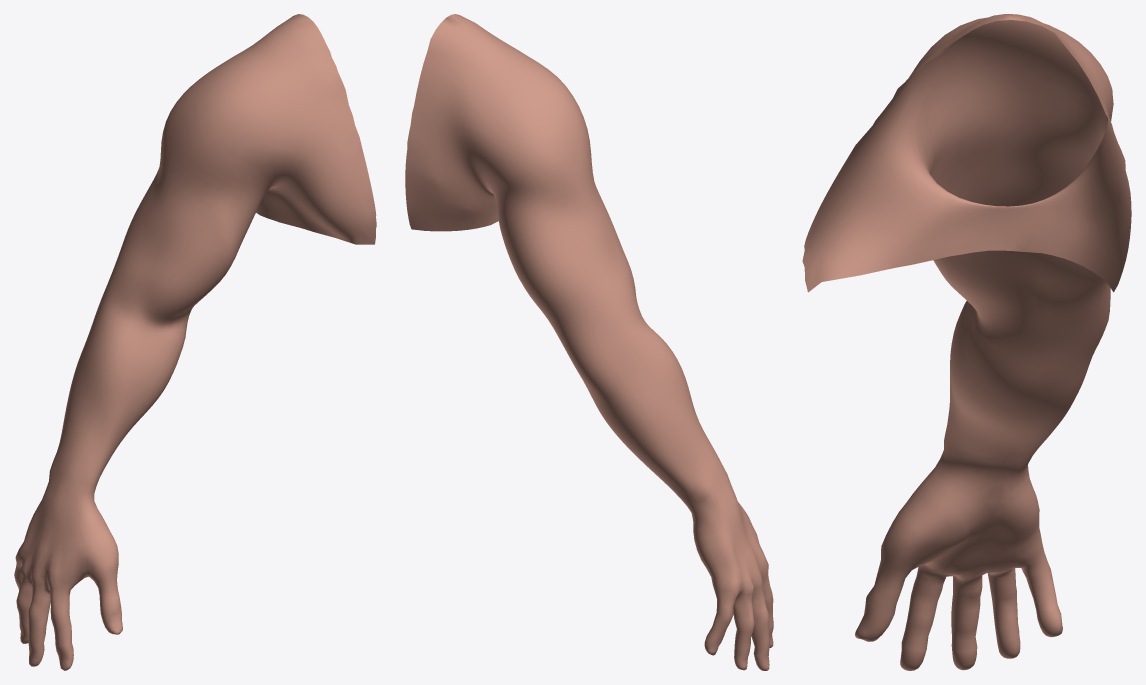
The model's file is Right_hand.fbx.
3 views of the same model, side by side, from view 1: azimuth 30°, elevation 25°; view 2: azimuth 150°, elevation 25°; view 3: azimuth 270°, elevation 25° (orthographic). The views are drawn at different scales.
Visible parts, largest first — view 1: Human hand Left; view 2: Human hand Left; view 3: Human hand Left.
Part boxes in pixels (x1,y1,x2,y2): Human hand Left: (14,14,376,670); Human hand Left: (405,14,773,670); Human hand Left: (802,14,1131,670).
Bounding box in the file's own units: 0.4535 × 0.8355 × 0.2879.
Materials: 1 (1 with a texture image).
